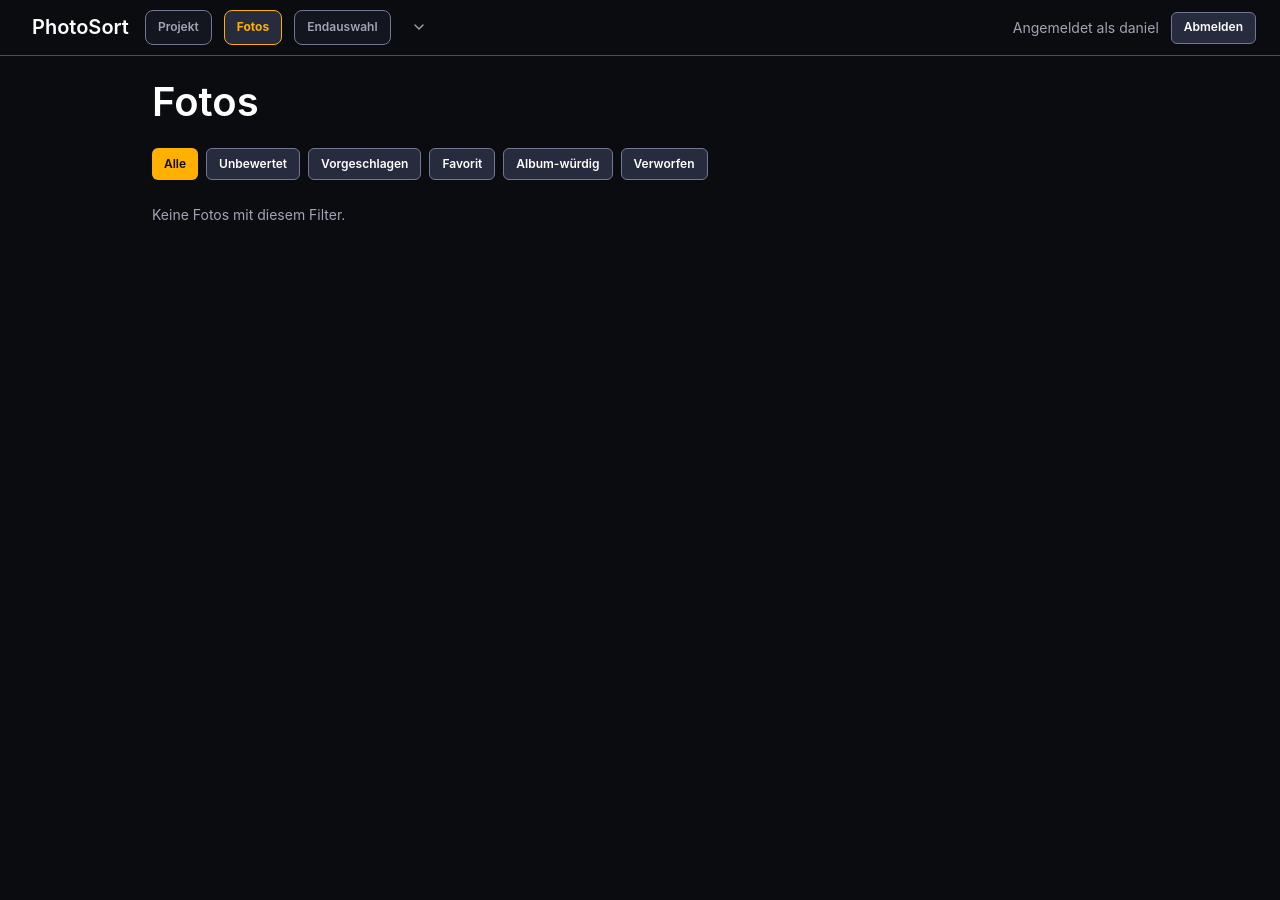
Test: App - Projekt-Navigationsgruppe in der Kopfzeile › bleibt bei geoeffnetem Panel genau EIN navigation-Landmark "Projektbereiche" (AK3b)
This screenshot has width=1280, height=900.
What coordinates should you click on to do the following:
click the button named "Projektbereiche"
I would click on:
 (419, 28)
Its box is [403,12,435,44].
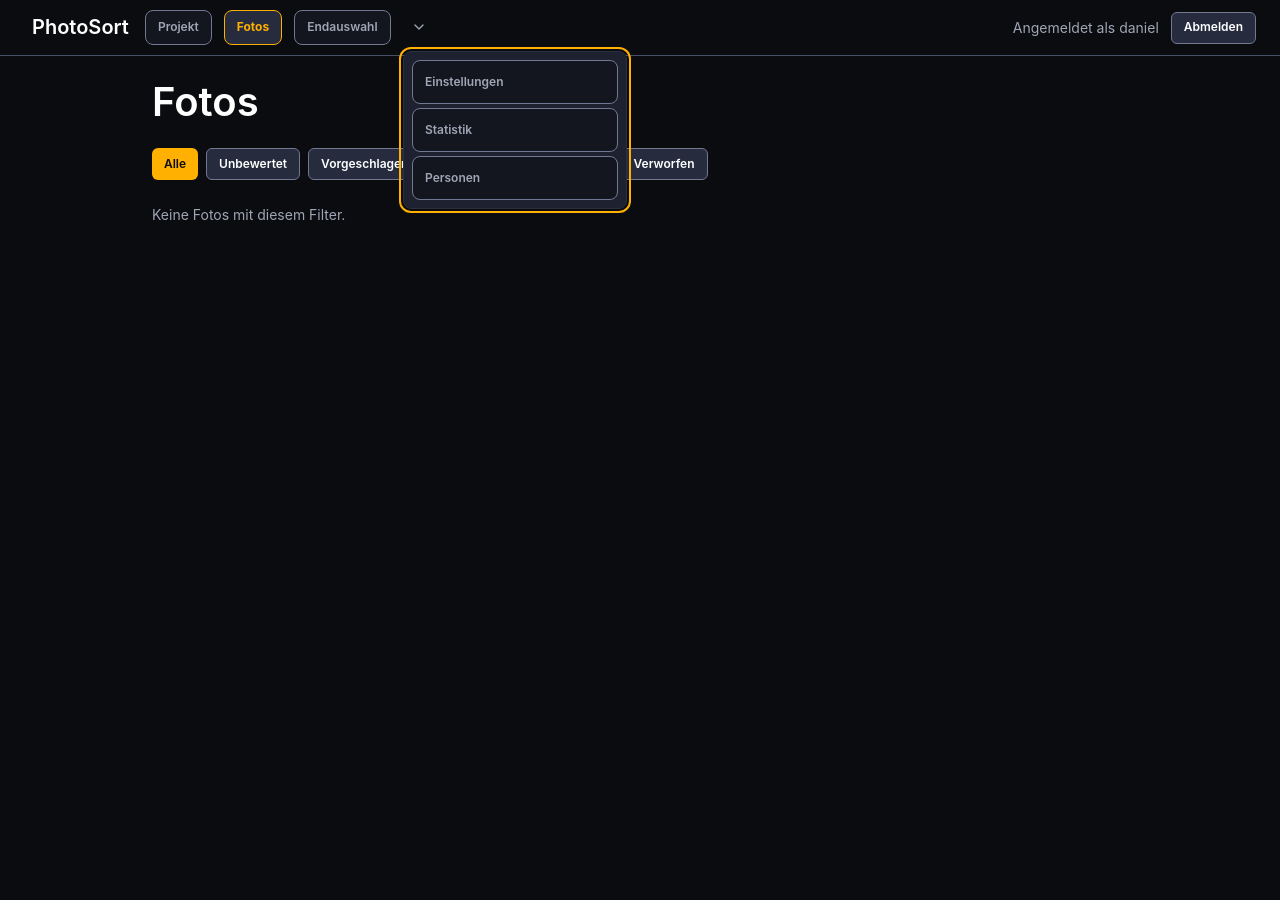
Expected: the number of navigation bars named "Projektbereiche" is 1, [145,10,434,45]
Expected: the dialog is shown, [403,51,627,209]
